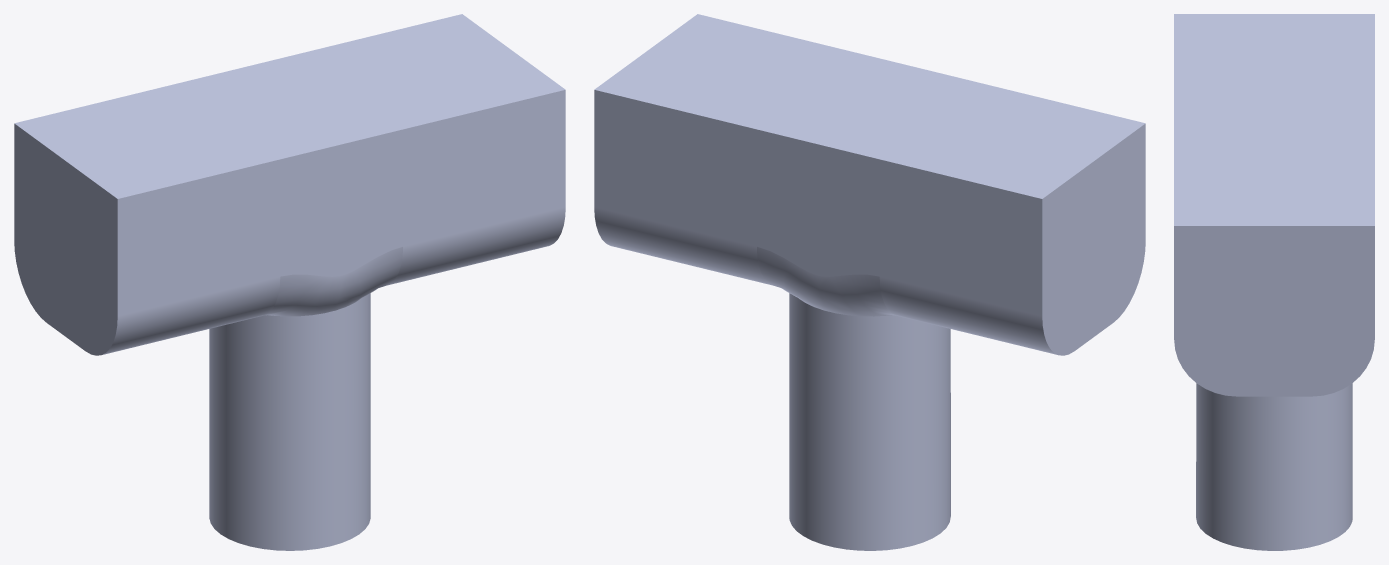
The model's file is gripper_placeholder.dae.
The picture shows the model from 3 angles, left to right: view 1: azimuth 30°, elevation 25°; view 2: azimuth 150°, elevation 25°; view 3: azimuth 270°, elevation 25°; orthographic projection. The views are drawn at different scales.
Parts seen in each view (by area): view 1: gripper_placeholder; view 2: gripper_placeholder; view 3: gripper_placeholder.
Boxes of the visible parts, bbox=[...] form: gripper_placeholder: bbox=[14, 14, 565, 550]; gripper_placeholder: bbox=[594, 14, 1145, 550]; gripper_placeholder: bbox=[1174, 14, 1374, 550].
Bounding box in the file's own units: 0.08 × 0.07 × 0.032.
